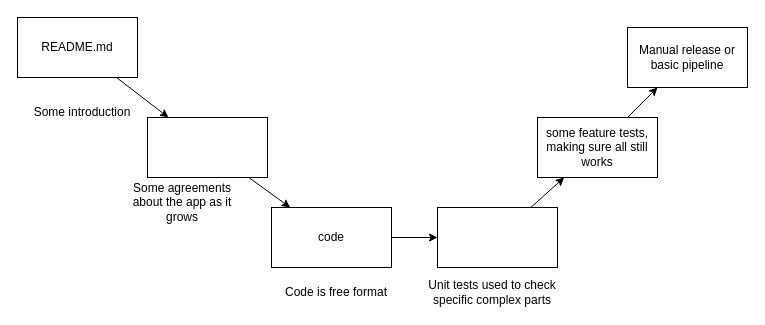
The diagram is 765 pixels wide and 325 high, and some of its shapes have lost their labels. Each missing label, with the centre of its shape:
docs/designs: the point at 207,147
unit tests: the point at 497,237
